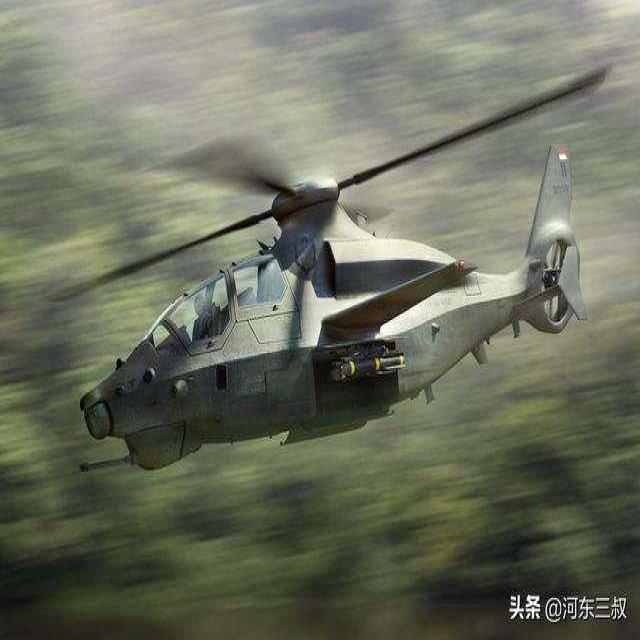MIL_HELO: (39, 56, 628, 508)
